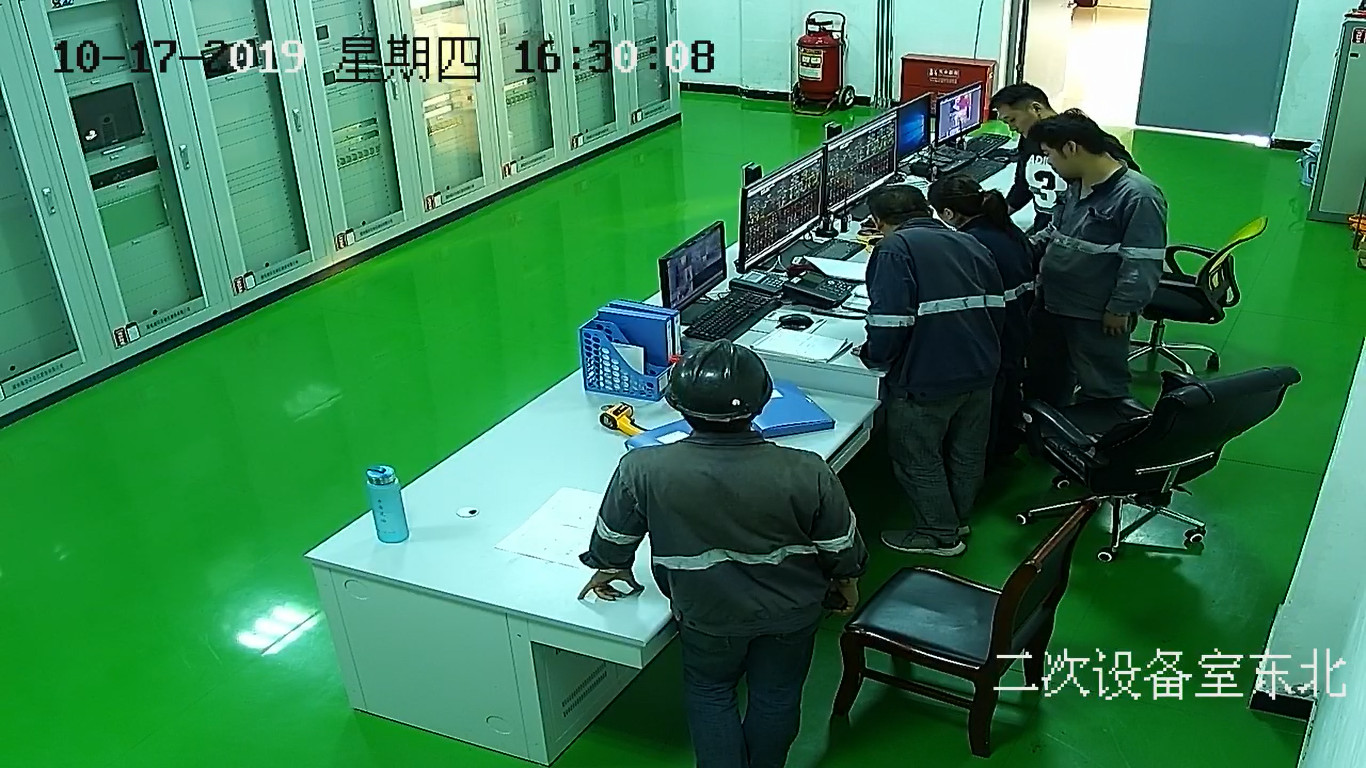helmet: (663, 339, 773, 424)
